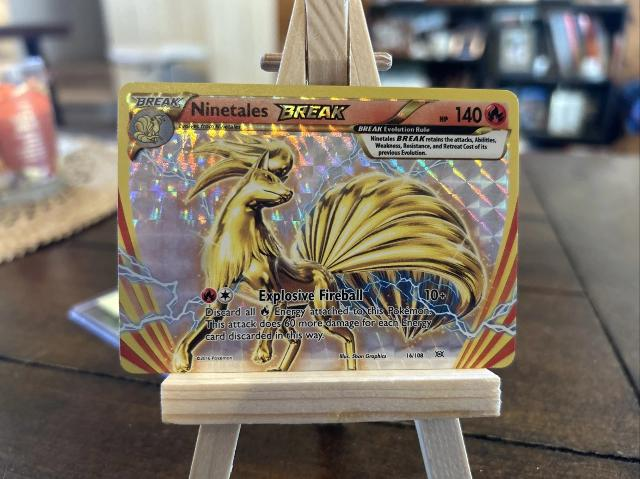Card: (114, 79, 523, 379)
Name: (188, 95, 354, 128)
